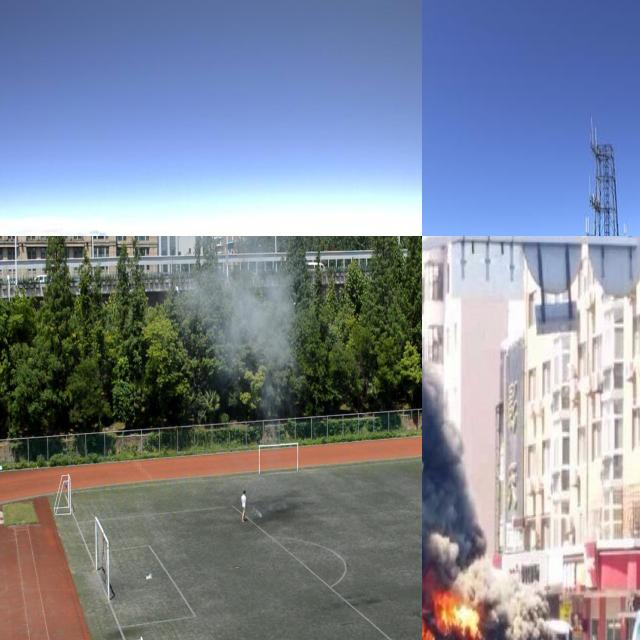smoke: (422, 236, 547, 634), (184, 257, 296, 399), (79, 219, 114, 236)
